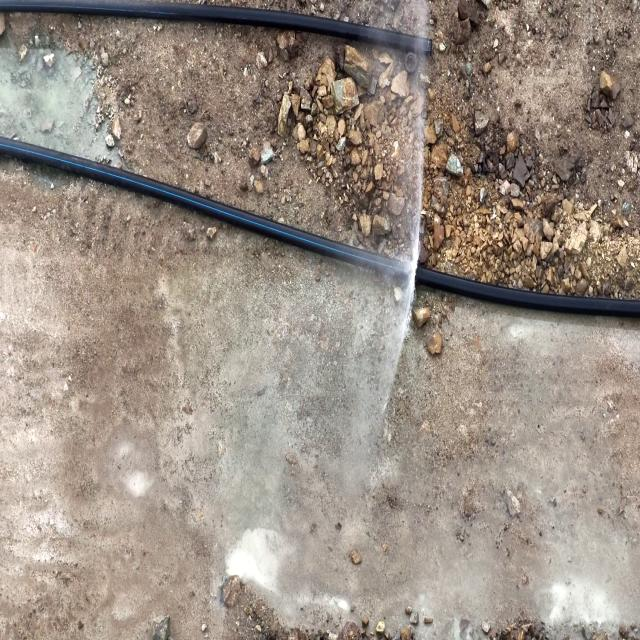leak: (382, 0, 430, 418)
